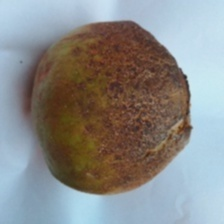guava: (0, 43, 191, 198)
